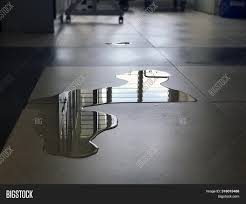Wet-floor: (30, 58, 210, 166)
